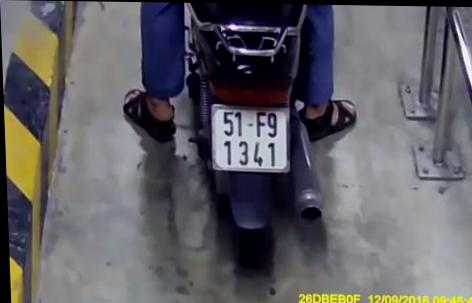License_Plate: (206, 99, 300, 177)
